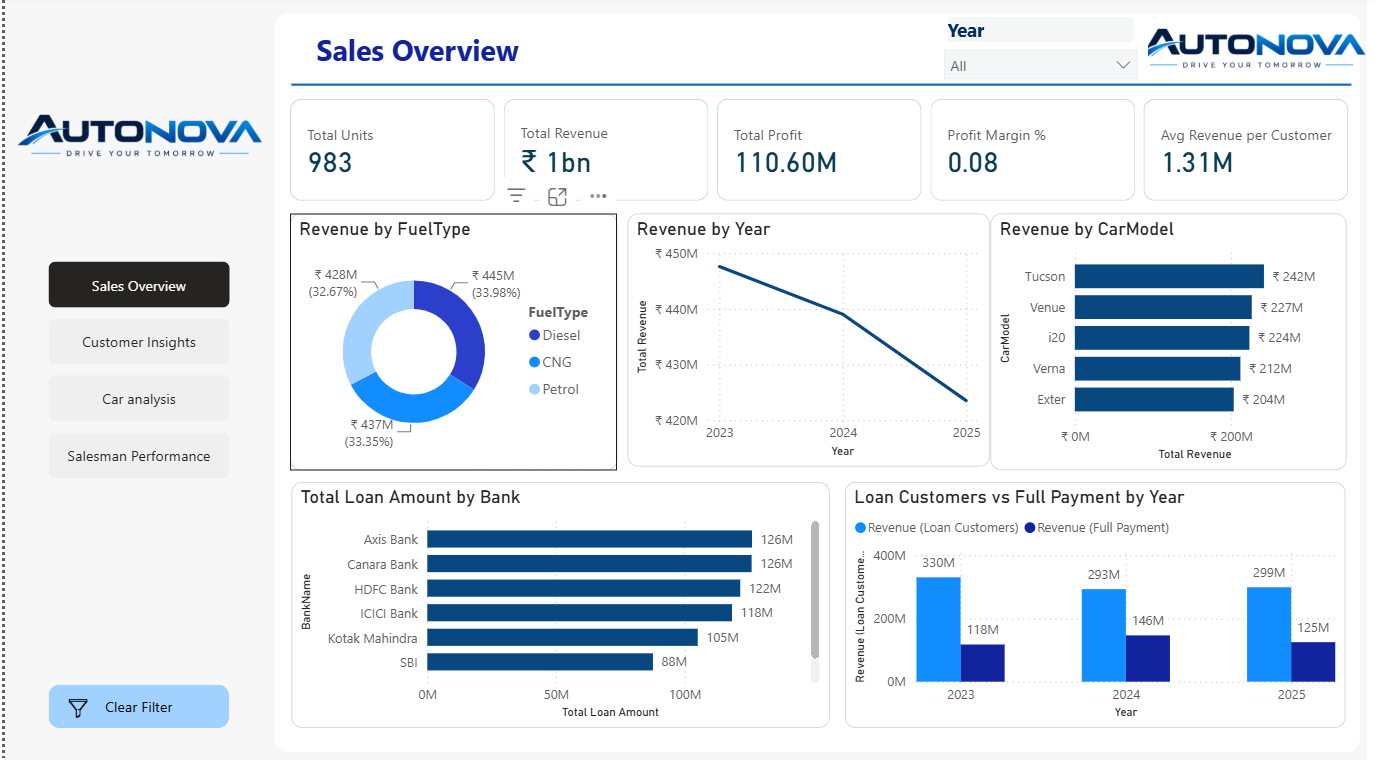

The page's visual inventory and layout, read from the dashboard file:
{"tool":"powerbi","page":{"name":"Sales Overview","canvas":[1280,720],"ordinal":0},"visuals":[{"type":"shape","box":[0,0,1270.1,720.2],"z":0},{"type":"shape","box":[237,0,1042.4,720.2],"z":1000},{"type":"image","box":[1044.8,0,234.7,98.4],"z":2000},{"type":"shape","box":[266.8,10.2,988.4,145.8],"z":3000},{"type":"image","box":[0,0,251.3,260.8],"z":4000},{"type":"textbox","box":[285.7,26.2,266.8,56.9],"z":5000},{"type":"cardVisual","fields":{"Data":["_Measures.Total Units","_Measures.Total Revenue","_Measures.Total Profit","_Measures.Profit Margin %","_Measures.Avg Revenue per Customer"]},"box":[265.7,83.5,989,119.6],"z":6000},{"type":"donutChart","title":"Revenue  by FuelType","fields":{"Category":["Sales.FuelType"],"Y":["_Measures.Total Revenue (OnRoad)"]},"box":[265.7,203.1,305.6,239.2],"z":7000},{"type":"clusteredBarChart","title":"Revenue  by CarModel","fields":{"Category":["Car.CarModel"],"Y":["_Measures.Total Revenue (OnRoad)"]},"box":[918.7,203.1,332.2,239.2],"z":8000},{"type":"lineChart","title":"Revenue  by Year","fields":{"Category":["Date.Year"],"Y":["_Measures.Total Revenue (OnRoad)"]},"box":[580.2,202.6,338.2,236.2],"z":9000},{"type":"clusteredColumnChart","title":"Loan Customers vs Full Payment by Year","fields":{"Category":["Date.Year"],"Y":["_Measures.Revenue (Loan Customers)","_Measures.Revenue (Full Payment)"]},"box":[783.2,453.6,466.6,229.6],"z":10000},{"type":"clusteredBarChart","title":"Total Loan Amount by Bank","fields":{"Category":["Sales.BankName"],"Y":["_Measures.Total Loan Amount"]},"box":[266.6,453.6,501.8,229.6],"z":11000},{"type":"pageNavigator","box":[40.8,247.8,169.1,205.6],"z":12000},{"type":"actionButton","box":[40.7,642.5,168.5,40.7],"z":13000},{"type":"image","box":[40.7,653.6,55.5,20.4],"z":14000},{"type":"slicer","fields":{"Values":["Date.Year","Sales.DeliveryDate.Variation.Date Hierarchy.Month"]},"box":[866,19,199.7,61.2],"z":15000}]}

Visuals, with their boxes in screenshot pixels (x1, y1, x2, y2), scaled from the page's 1280x720 canvas onto the 1375x760 screenshot:
shape: BBox(0, 0, 1364, 759)
shape: BBox(255, 0, 1374, 759)
image: BBox(1122, 0, 1374, 104)
shape: BBox(287, 11, 1348, 165)
image: BBox(0, 0, 270, 275)
textbox: BBox(307, 28, 594, 88)
cardVisual - _Measures.Total Units x _Measures.Total Revenue: BBox(285, 88, 1348, 214)
"Revenue  by FuelType" donutChart: BBox(285, 214, 614, 467)
"Revenue  by CarModel" clusteredBarChart: BBox(987, 214, 1344, 467)
"Revenue  by Year" lineChart: BBox(623, 214, 987, 463)
"Loan Customers vs Full Payment by Year" clusteredColumnChart: BBox(841, 479, 1343, 721)
"Total Loan Amount by Bank" clusteredBarChart: BBox(286, 479, 825, 721)
pageNavigator: BBox(44, 262, 225, 479)
actionButton: BBox(44, 678, 225, 721)
image: BBox(44, 690, 103, 711)
slicer - Date.Year x Sales.DeliveryDate.Variation.Date Hierarchy.Month: BBox(930, 20, 1145, 85)
